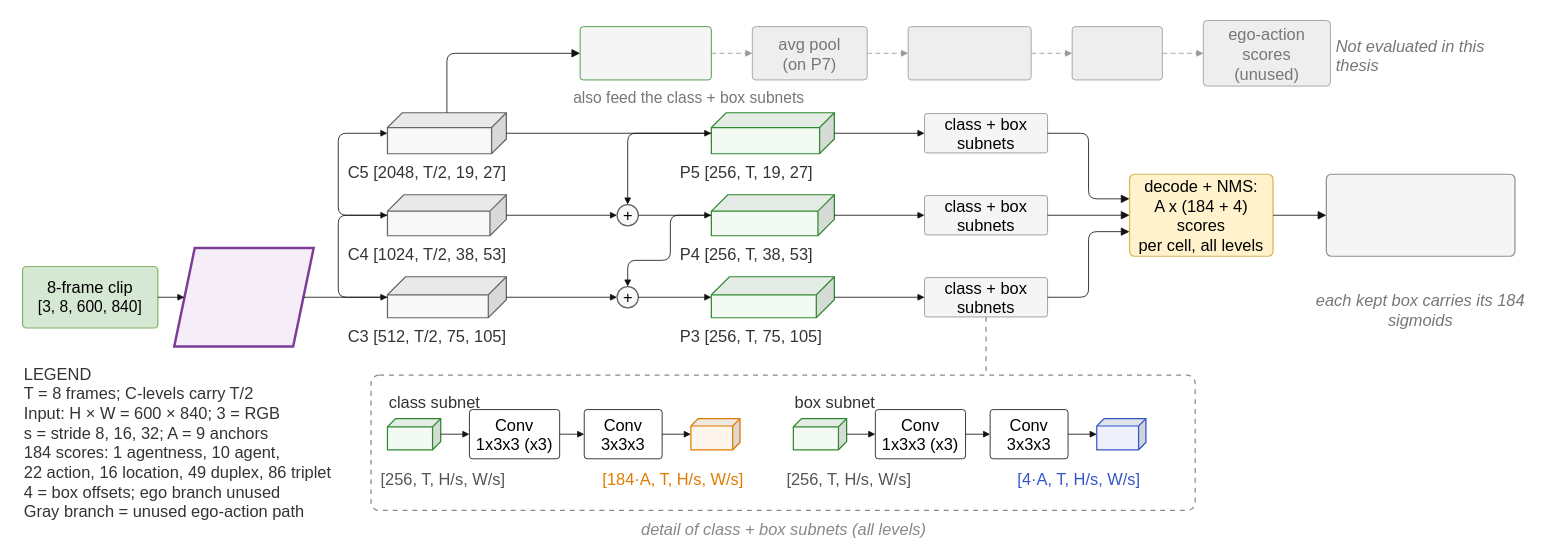
This 1565x557 diagram has some shape labels left out. Here are the shapes that lost their labels. From the top down, the box of each, then its label:
(579, 26, 711, 80): P6 = conv(C5) P7 = conv(P6)
(907, 26, 1031, 80): [256, T, 1, 1]
(1071, 26, 1162, 80): Conv 3x1x1
(1325, 173, 1515, 256): per-frame detections: boxes scored across 184 classes
(173, 246, 314, 347): ResNet50-I3D backbone
